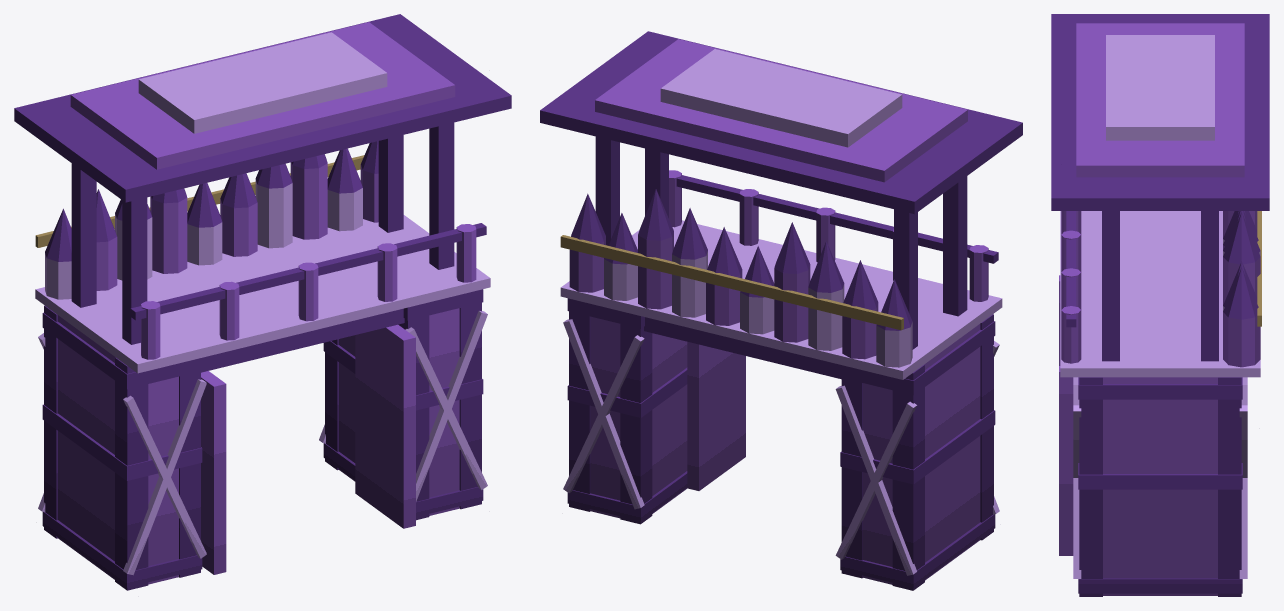
File: perimeter_gate_crystal_open.glb
The picture shows the model from 3 angles, left to right: view 1: azimuth 30°, elevation 25°; view 2: azimuth 150°, elevation 25°; view 3: azimuth 270°, elevation 25°; orthographic projection. The views are drawn at different scales.
Bounding box in the file's own units: 4.4 × 4.8 × 2.2.
Materials: 1 (1 with a texture image).
